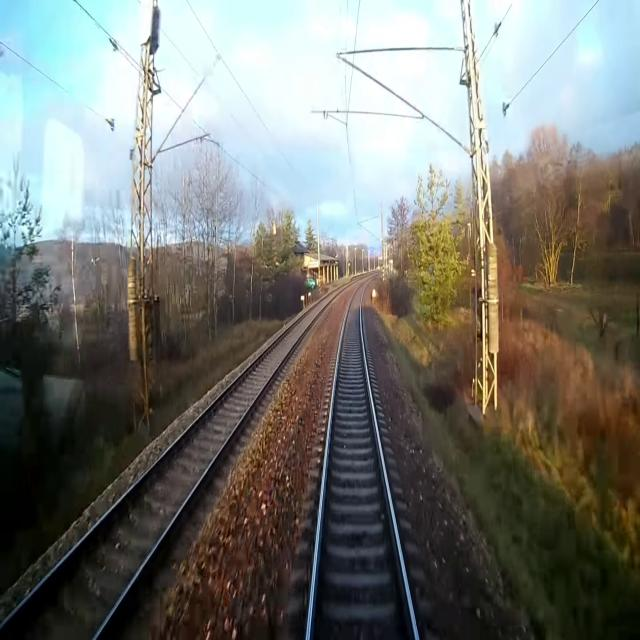rail-track: (0, 288, 341, 639), (310, 280, 414, 639)
